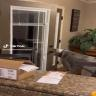dog: (54, 49, 96, 76)
